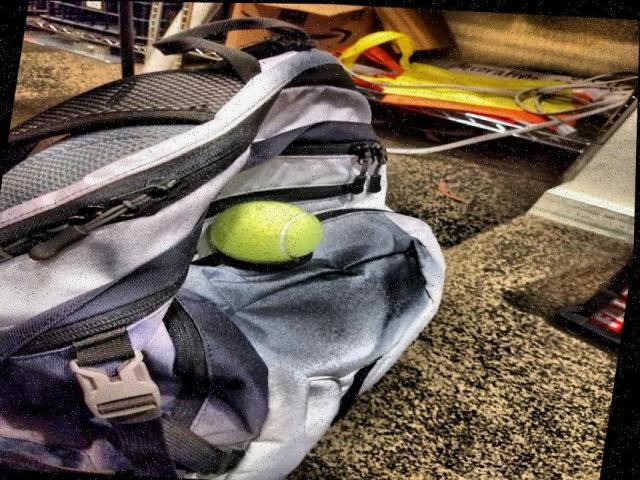tennis-ball: (209, 201, 323, 264)
